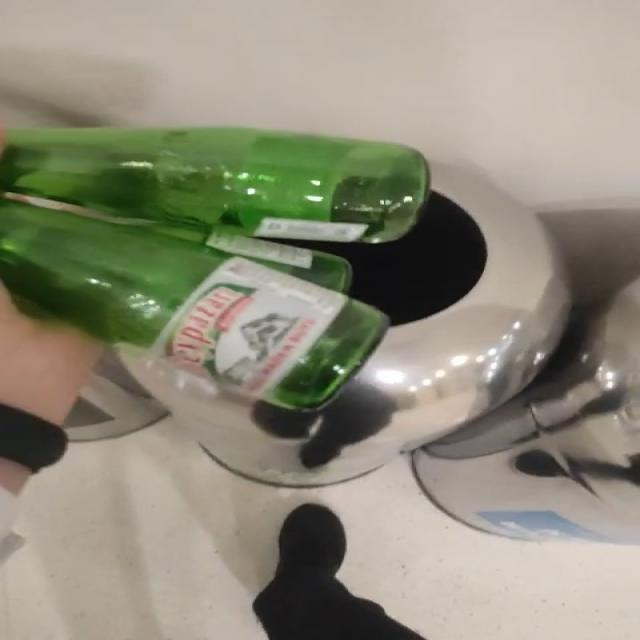Glass: (1, 127, 429, 410)
